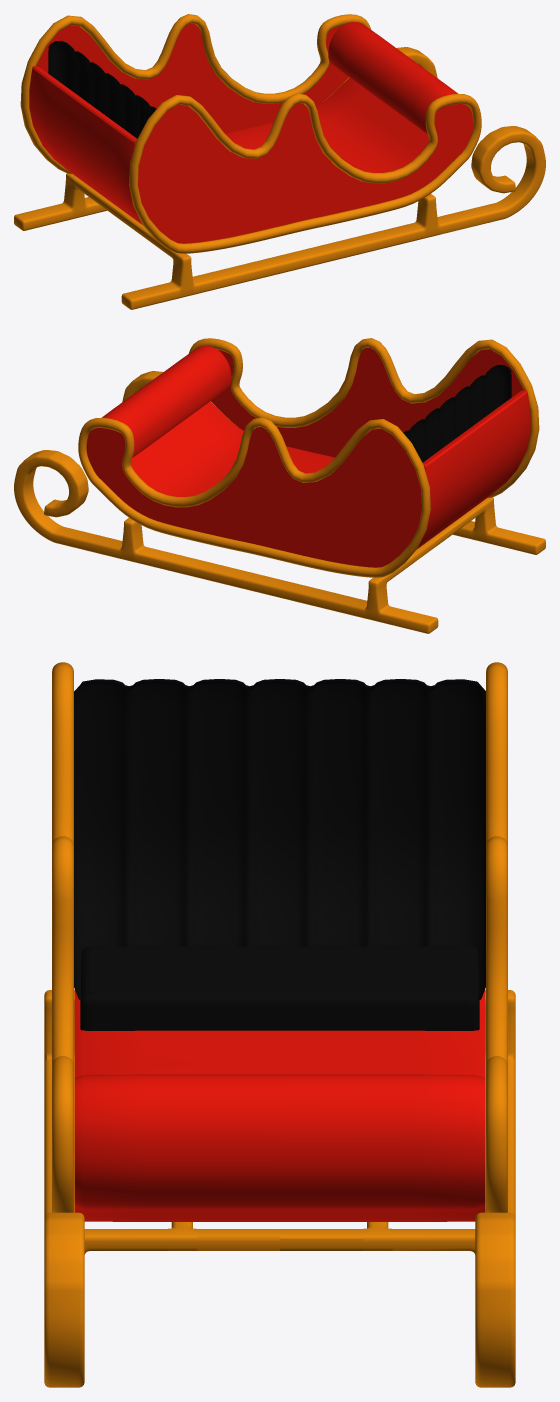
The model's file is sleigh.glb.
The picture shows the model from 3 angles, top to bottom: view 1: azimuth 30°, elevation 25°; view 2: azimuth 150°, elevation 25°; view 3: azimuth 270°, elevation 25°; orthographic projection. The views are drawn at different scales.
Parts seen in each view (by area): view 1: BezierCircle_3, BezierCircle.001_4, Cube_0, Cube.001_5; view 2: BezierCircle_3, BezierCircle.001_4, Cube_0, Cube.001_5; view 3: Cube.001_5, BezierCircle.001_4, Cube.002_6, Cube_0, BezierCircle_3.
Part boxes in pixels (x1=…): BezierCircle_3: x1=20, y1=14, x2=481, y2=253; BezierCircle.001_4: x1=29, y1=22, x2=457, y2=224; Cube_0: x1=14, y1=47, x2=545, y2=309; Cube.001_5: x1=48, y1=40, x2=156, y2=138; BezierCircle_3: x1=78, y1=338, x2=539, y2=577; BezierCircle.001_4: x1=102, y1=346, x2=530, y2=548; Cube_0: x1=14, y1=371, x2=545, y2=633; Cube.001_5: x1=403, y1=364, x2=511, y2=462; Cube.001_5: x1=74, y1=679, x2=485, y2=1000; BezierCircle.001_4: x1=74, y1=989, x2=485, y2=1221; Cube.002_6: x1=80, y1=946, x2=479, y2=1030; Cube_0: x1=44, y1=990, x2=515, y2=1387; BezierCircle_3: x1=52, y1=662, x2=507, y2=1212.
Bounding box in the file's own units: 15.16 × 6.96 × 7.44.
